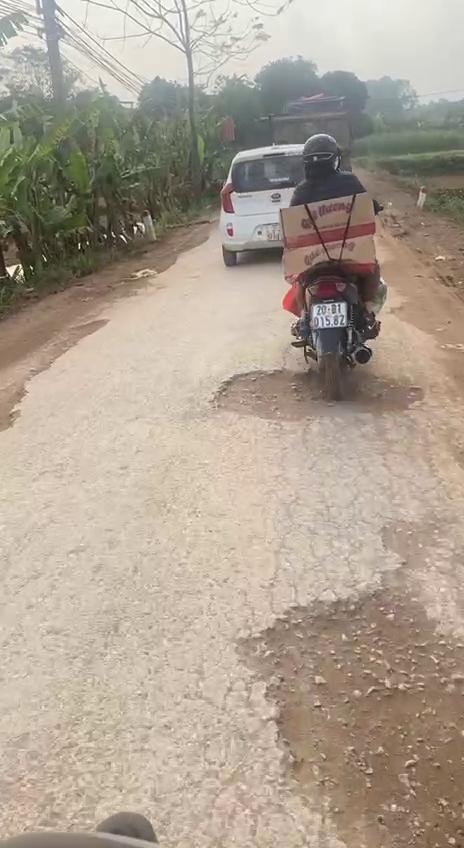pothole: (232, 564, 464, 848), (0, 314, 116, 439), (213, 366, 428, 424)
